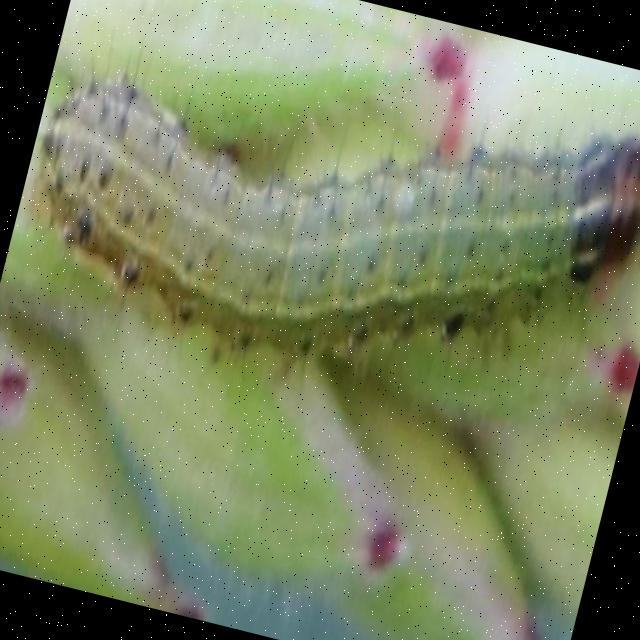worm: (1, 1, 640, 450)
